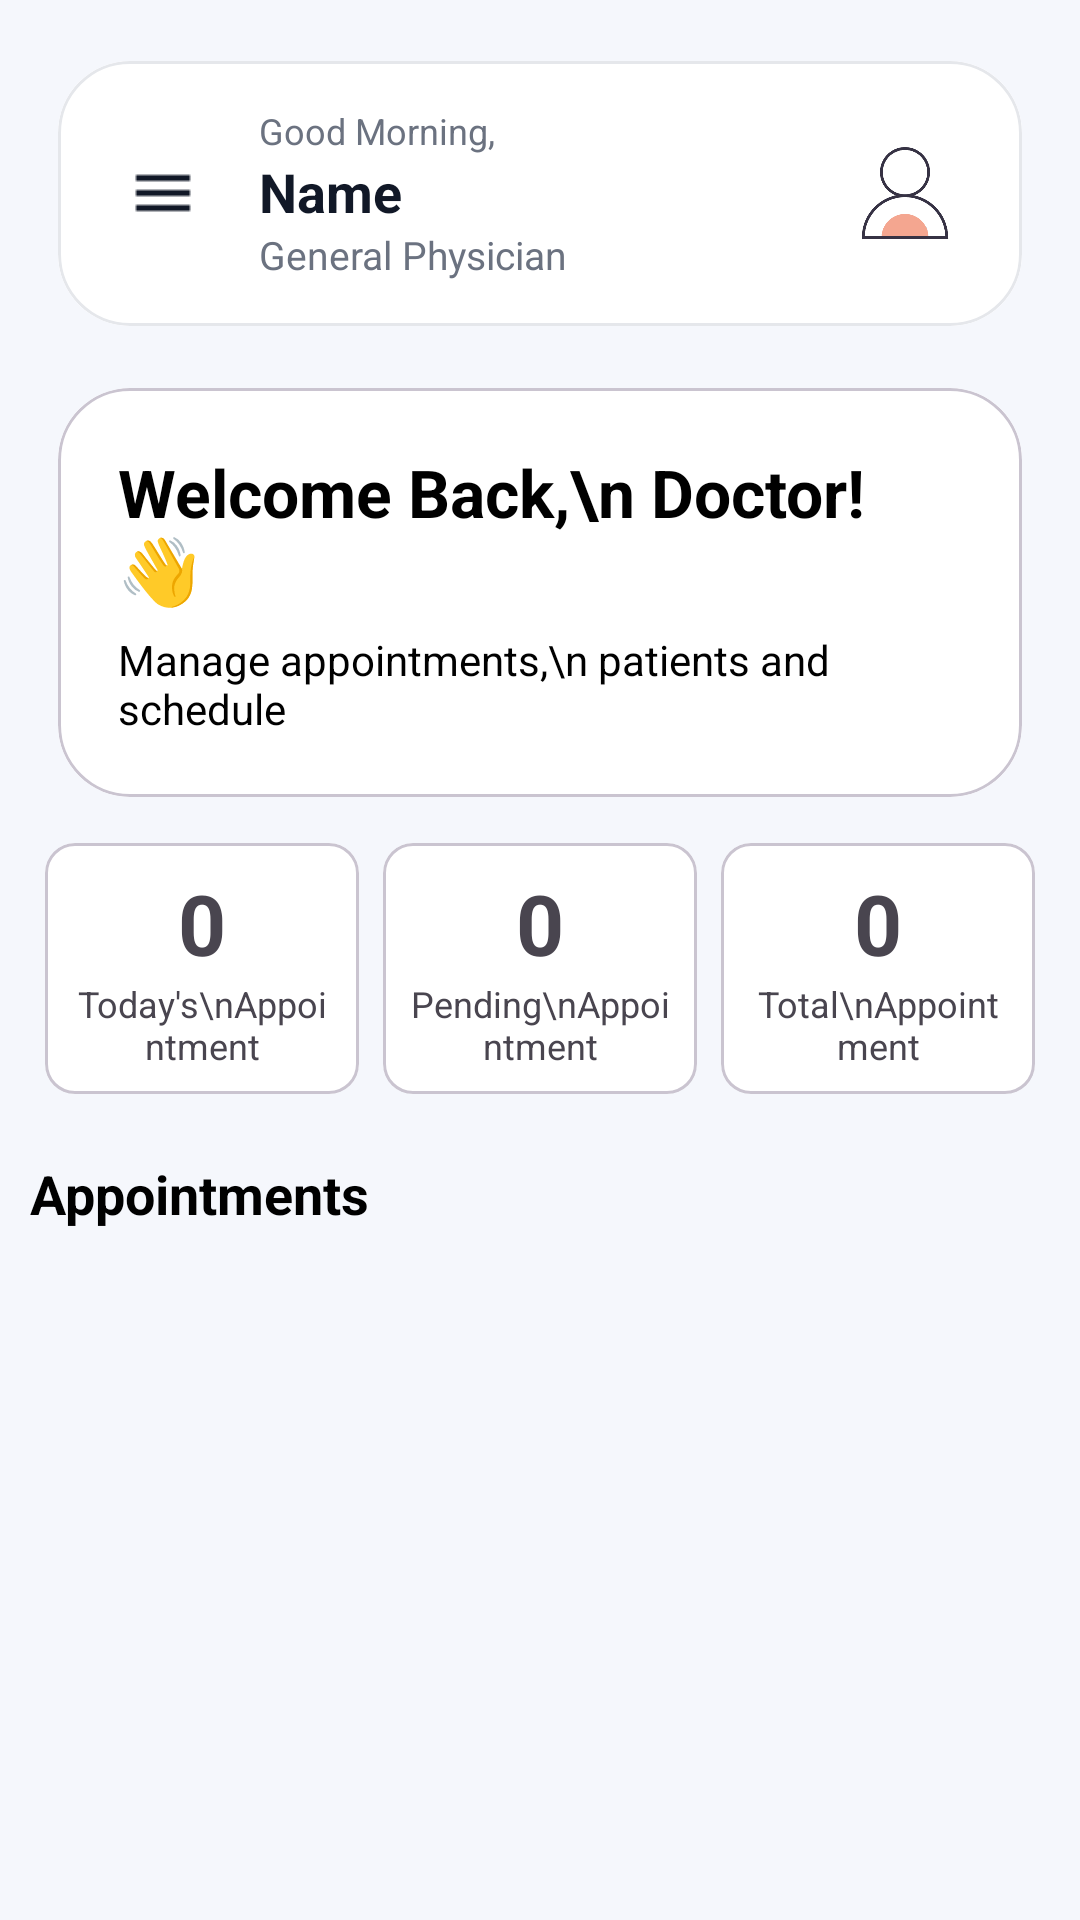

Named icons in this screenshot (1080px x 1920px) and their bounding boxes, (x1, y1, x2, y2):
menu: (135, 174, 191, 212)
